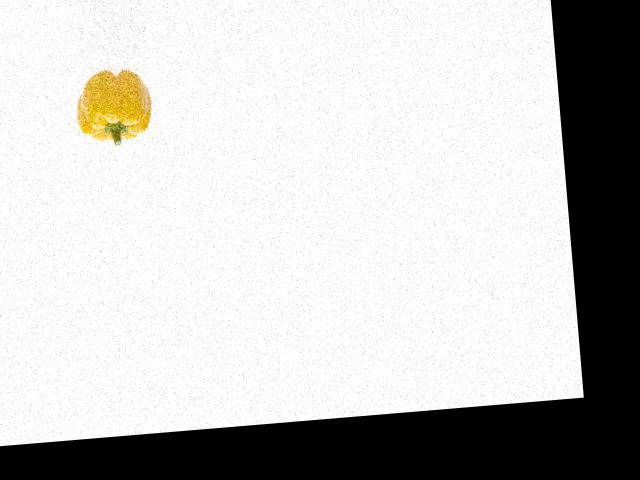bell_pepper: (68, 65, 154, 151)
